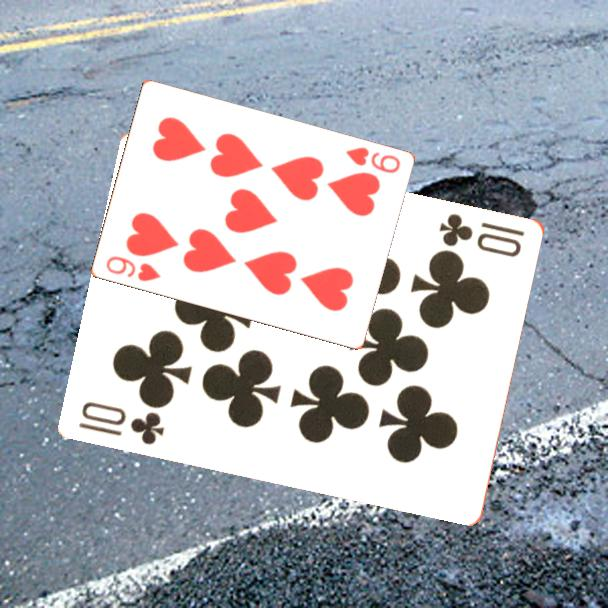c10: (436, 209, 528, 260), (76, 397, 168, 448)
h09: (102, 253, 164, 285), (341, 144, 403, 176)
